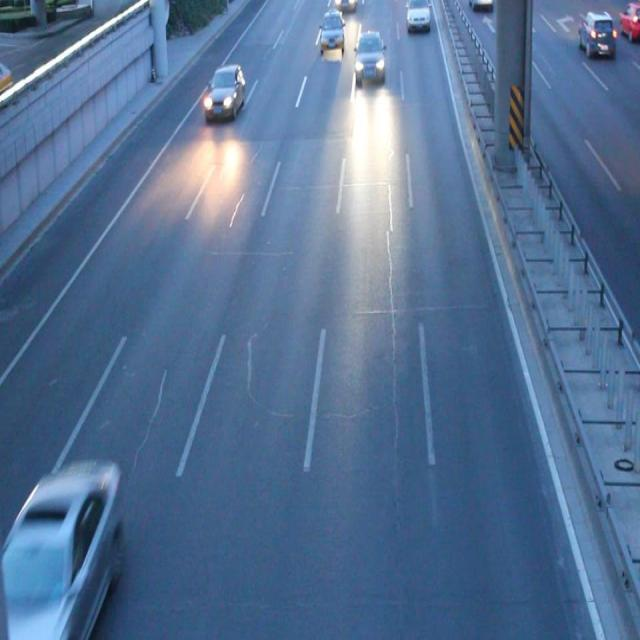car: (1, 457, 119, 640), (204, 68, 245, 115), (577, 13, 612, 56), (353, 34, 384, 80), (320, 13, 344, 52), (406, 1, 429, 26), (467, 1, 492, 10), (335, 1, 354, 12)
